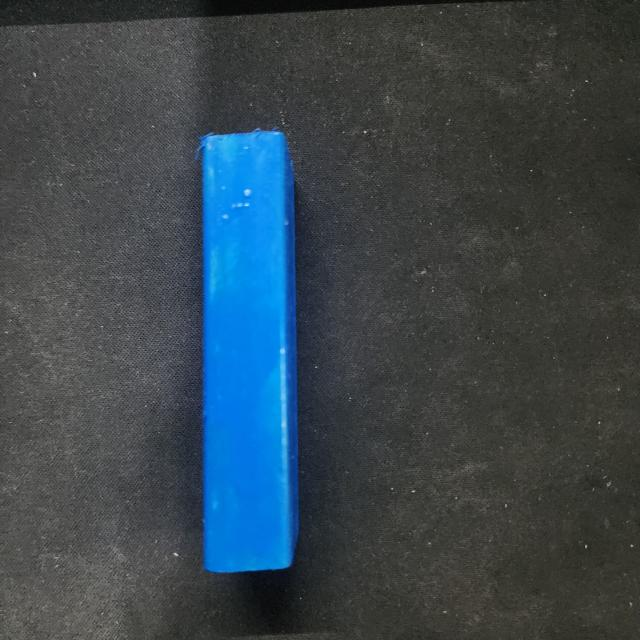blue: (200, 132, 300, 572)
